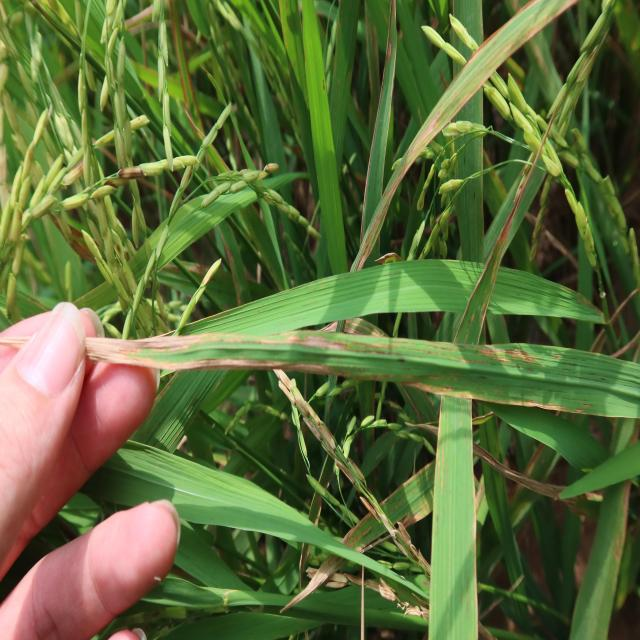Dom soc vi khuan: (86, 332, 348, 378), (401, 381, 475, 399), (465, 345, 538, 363), (353, 341, 441, 355), (357, 372, 395, 381), (423, 341, 465, 349), (460, 358, 492, 366), (401, 374, 443, 380)
